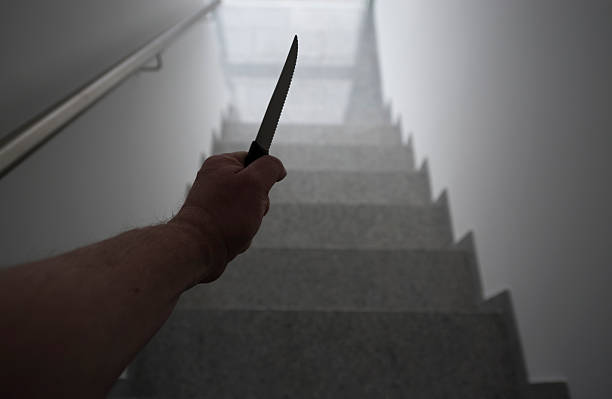knife: (243, 33, 299, 168)
